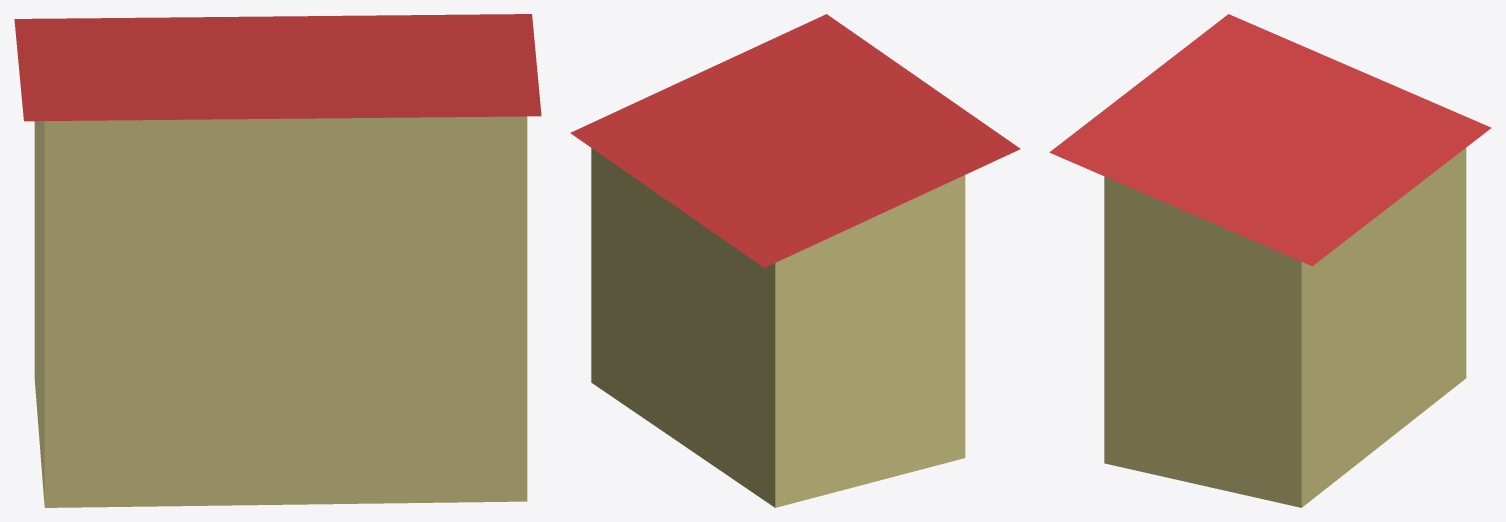
3 views of the same model, side by side, from view 1: azimuth 30°, elevation 25°; view 2: azimuth 150°, elevation 25°; view 3: azimuth 270°, elevation 25° (orthographic). The views are drawn at different scales.
Size of the model in its own units: 16.83 by 15.79 by 11.9.
